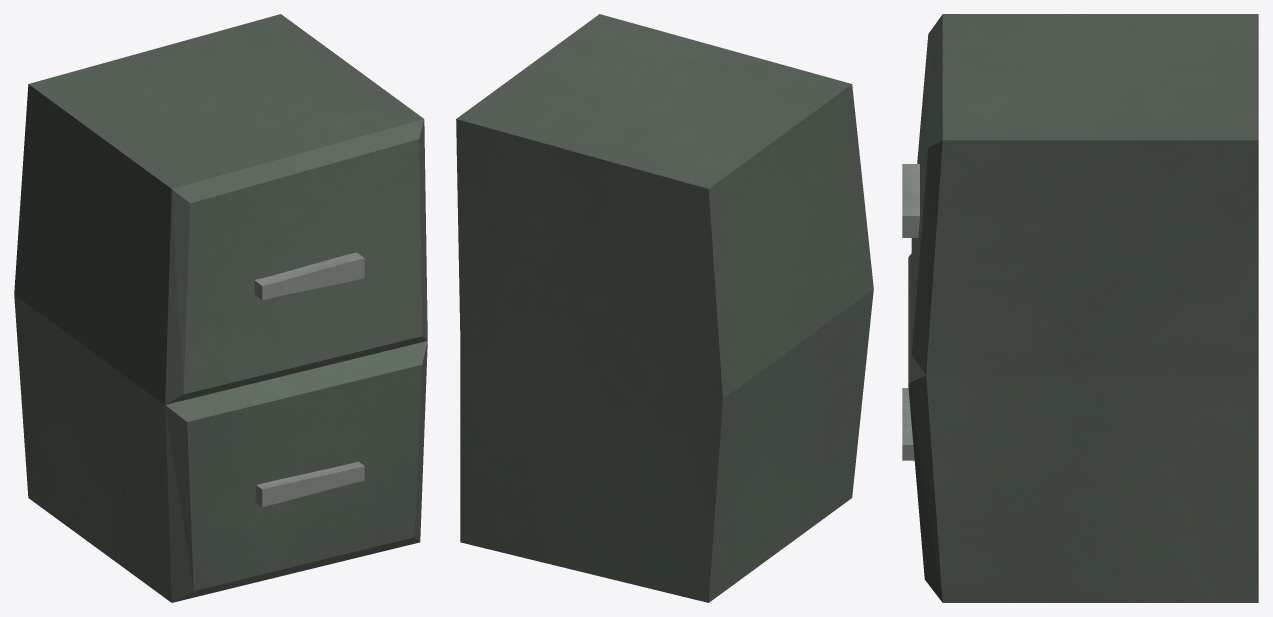
File: file cabinet.fbx
3 renders of one model, left to right at view 1: azimuth 30°, elevation 25°; view 2: azimuth 150°, elevation 25°; view 3: azimuth 270°, elevation 25°, orthographic. The views are drawn at different scales.
Parts seen in each view (by area): view 1: polySurface512; view 2: polySurface512; view 3: polySurface512.
Boxes of the visible parts, box(x1,y1,x2,y2) form: polySurface512: box(14, 14, 427, 602); polySurface512: box(456, 14, 873, 602); polySurface512: box(902, 14, 1258, 602).
Size of the model in its own units: 0.5085 by 0.7695 by 0.5342.
Materials: 1 (1 with a texture image).
